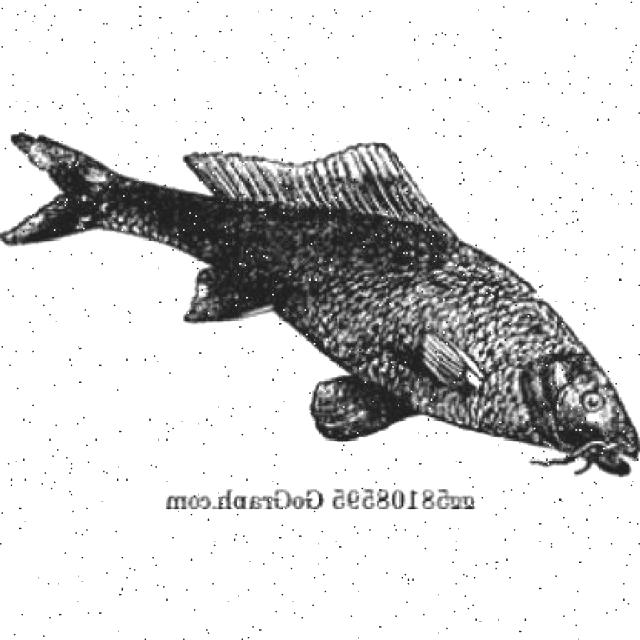ikan-mas: (18, 131, 640, 472)
